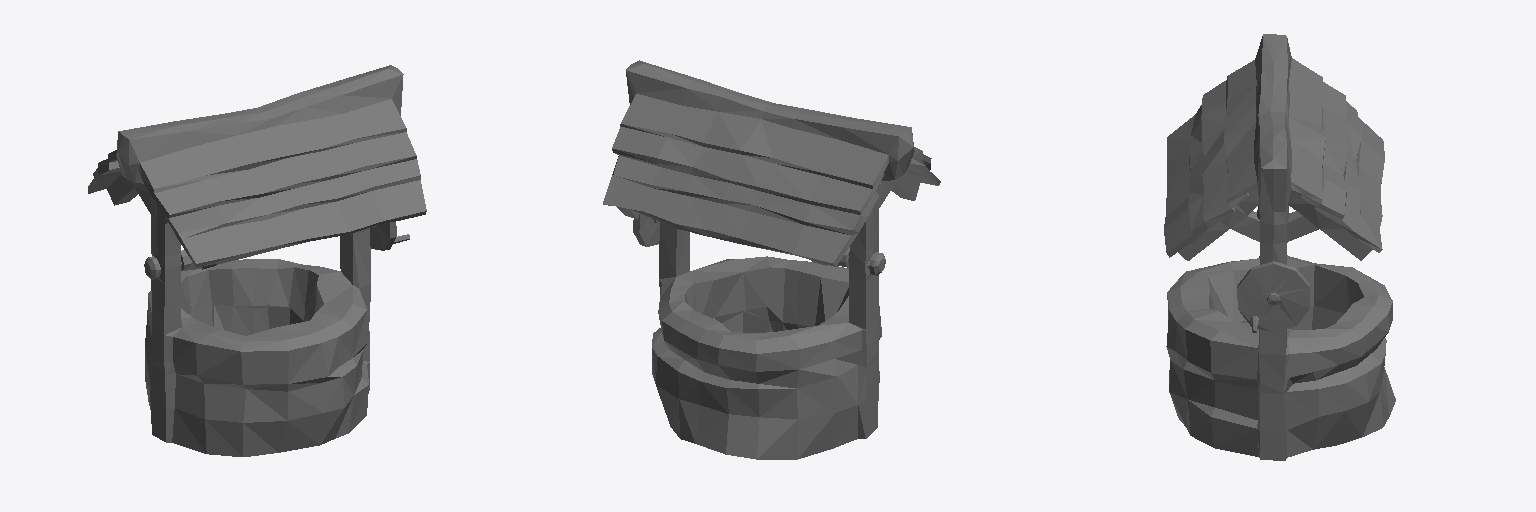
The model's file is Well_Lo.obj.
3 renders of one model, left to right at view 1: azimuth 30°, elevation 25°; view 2: azimuth 150°, elevation 25°; view 3: azimuth 270°, elevation 25°, orthographic.
Visible parts, largest first — view 1: Well_Lo1:Main; view 2: Well_Lo1:Main; view 3: Well_Lo1:Main.
Boxes of the visible parts, box(x1,y1,x2,y2) form: Well_Lo1:Main: box(88, 65, 426, 456); Well_Lo1:Main: box(603, 60, 940, 459); Well_Lo1:Main: box(1164, 34, 1395, 460).
Bounding box in the file's own units: 2.17 × 2.31 × 1.54.